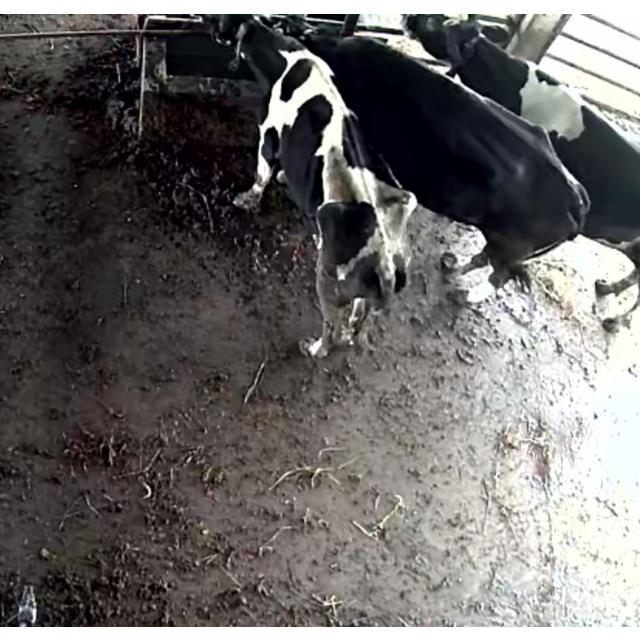drink: (276, 15, 418, 110)
